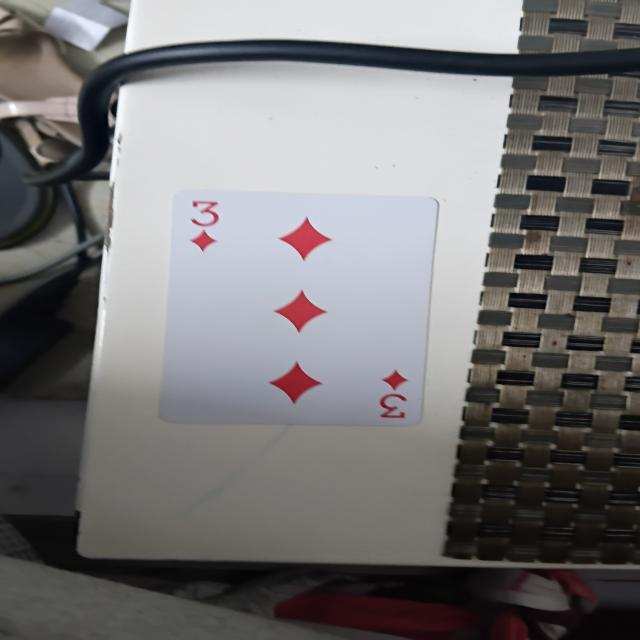3D: (176, 194, 410, 420)
